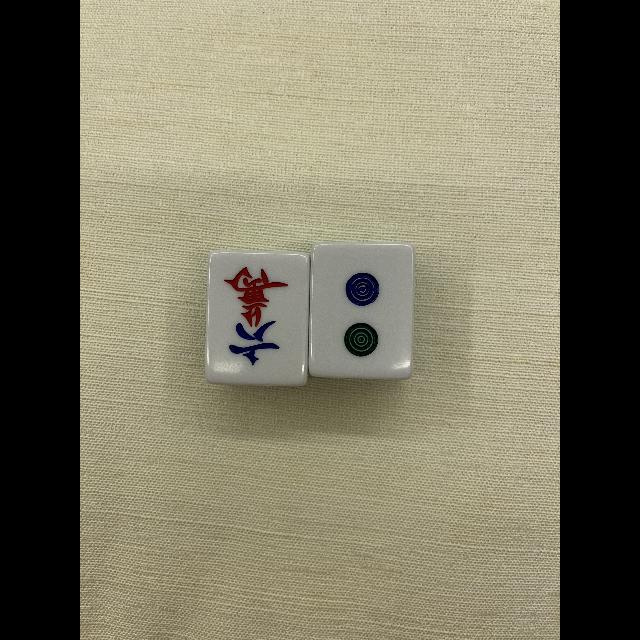c6: (209, 255, 307, 382)
d2: (312, 244, 410, 376)
